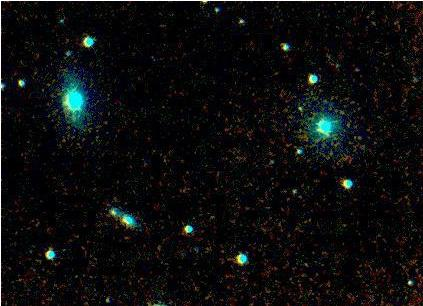star: (50, 86, 80, 116)
